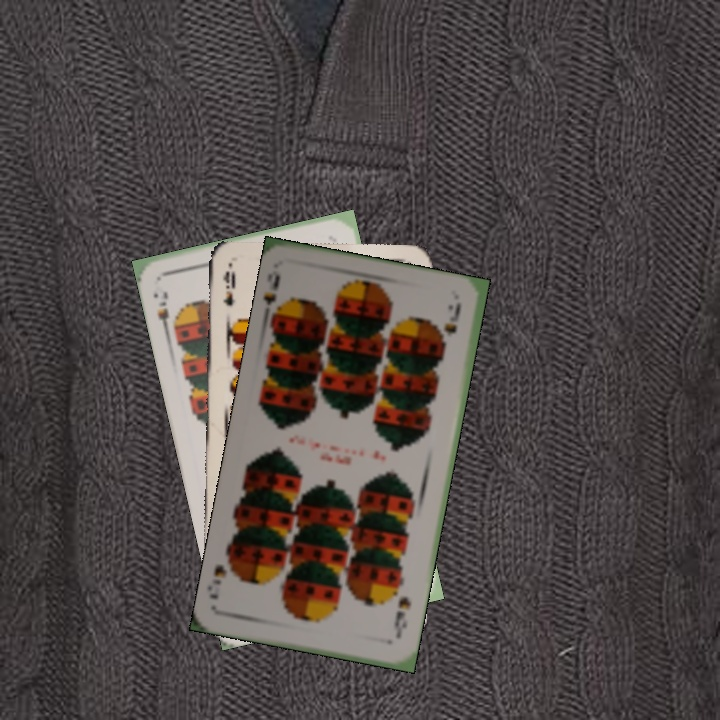E9: (218, 266, 238, 308)
S9: (154, 286, 181, 339), (259, 270, 285, 323), (390, 593, 414, 641)
